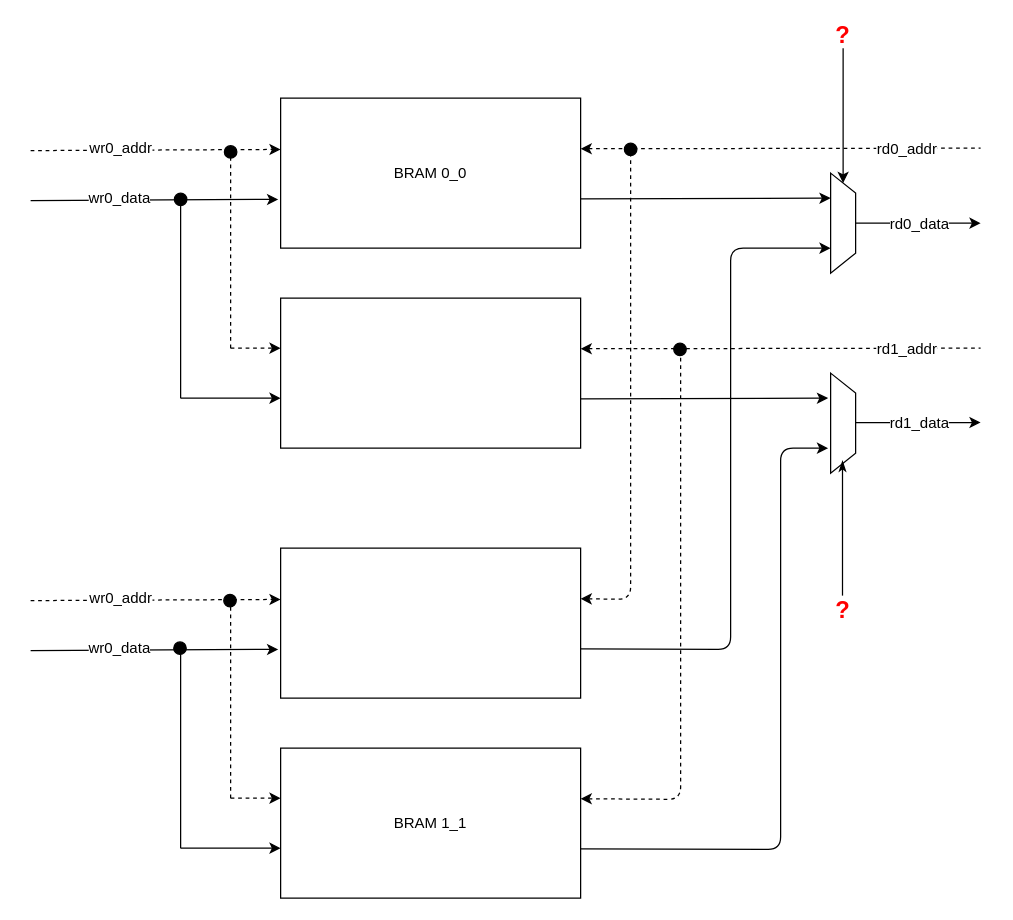
The diagram is 1013 pixels wide and 920 high, and some of its shapes have lost their labels. Here are the shapes that lost their labels. From the top down, the box of each, then its label:
(279, 297, 581, 448): BRAM 0_1
(279, 547, 581, 698): BRAM 1_0
